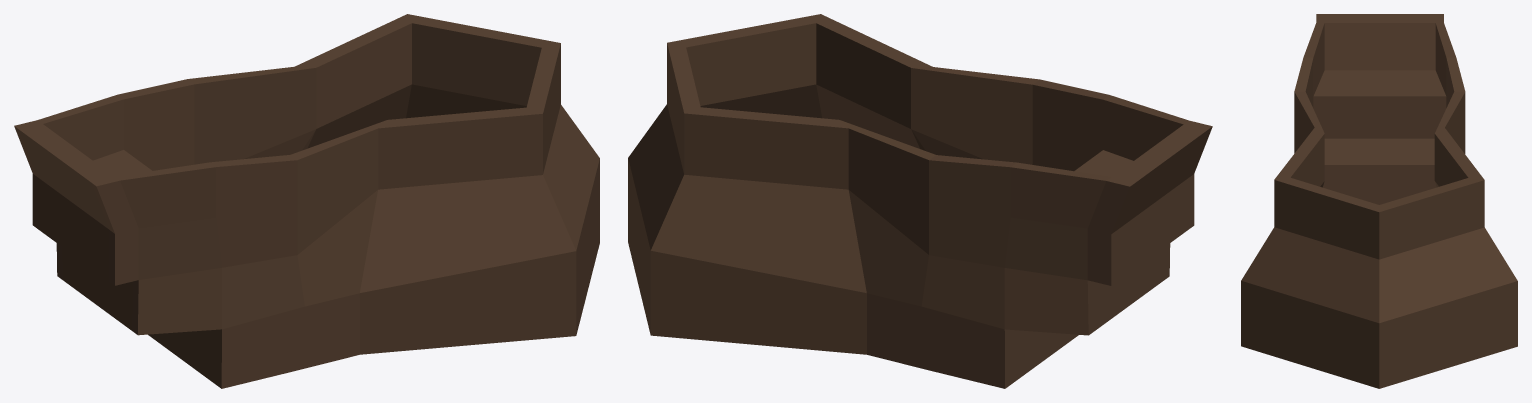
Rendered from HoleBody.fbx.
3 views of the same model, side by side, from view 1: azimuth 30°, elevation 25°; view 2: azimuth 150°, elevation 25°; view 3: azimuth 270°, elevation 25° (orthographic). The views are drawn at different scales.
Parts seen in each view (by area): view 1: HoleBody; view 2: HoleBody; view 3: HoleBody.
Boxes of the visible parts, x1,y1,x2,y2 form: HoleBody: [14, 14, 599, 388]; HoleBody: [628, 14, 1212, 388]; HoleBody: [1241, 14, 1517, 388].
Bounding box in the file's own units: 2901 × 1117 × 1652.
